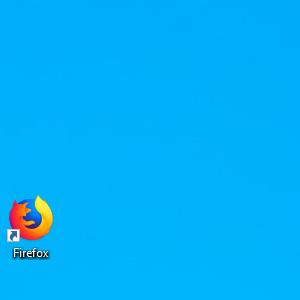firefox: (7, 194, 54, 243)
